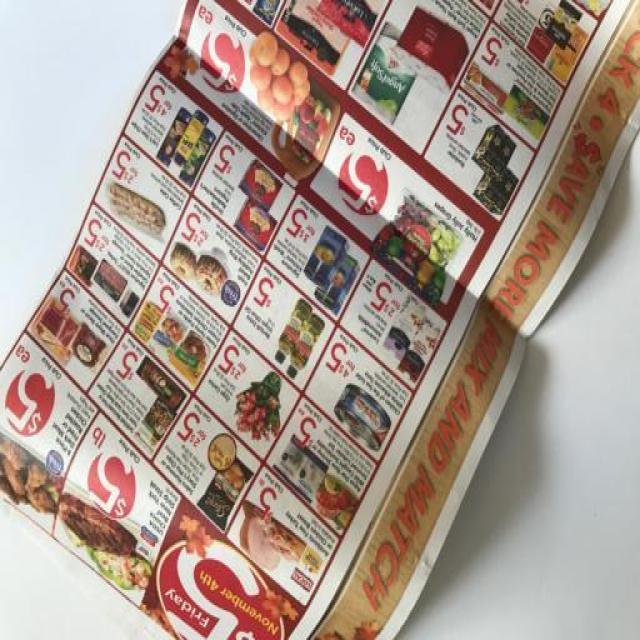paper: (5, 9, 640, 640)
